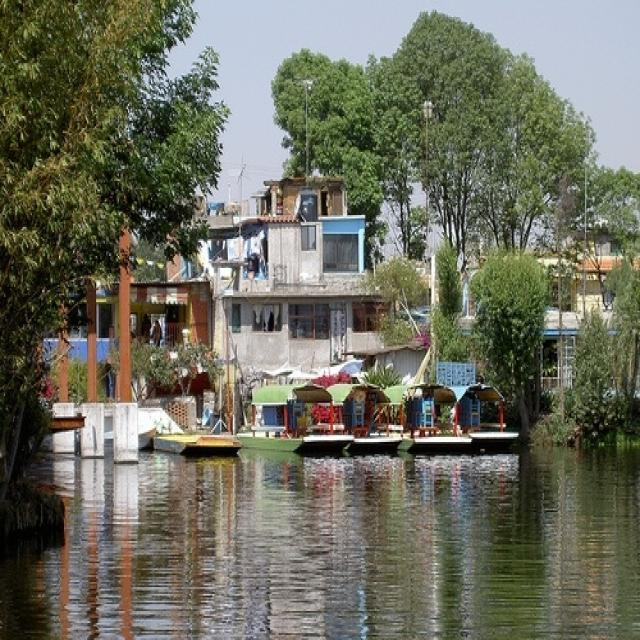boat: (235, 421, 354, 459), (155, 425, 242, 465)
